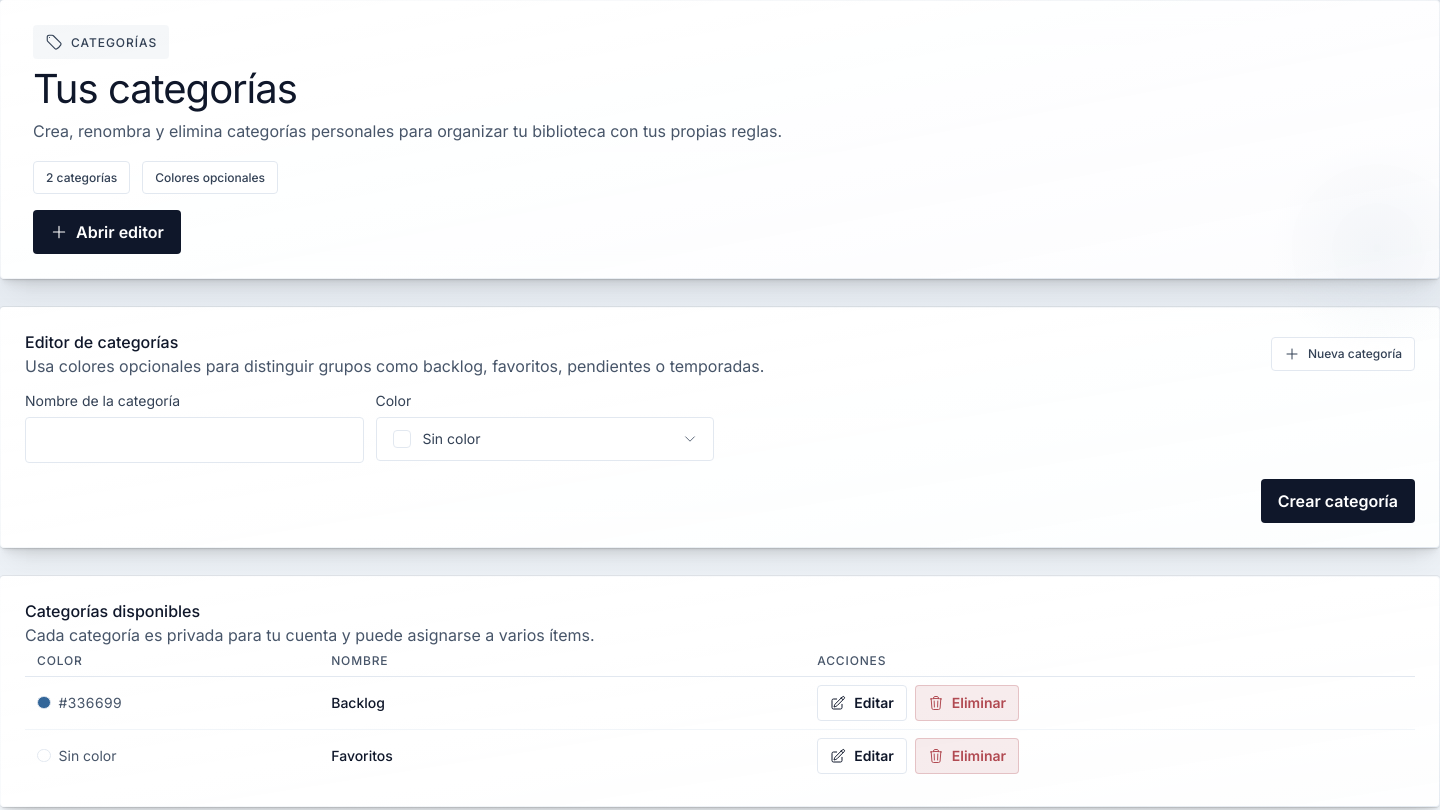
CategoriesView › confirms and deletes a category through the dialog
Click the button "Eliminar" in the row of "#336699": click(967, 703) [915, 685, 1019, 721]
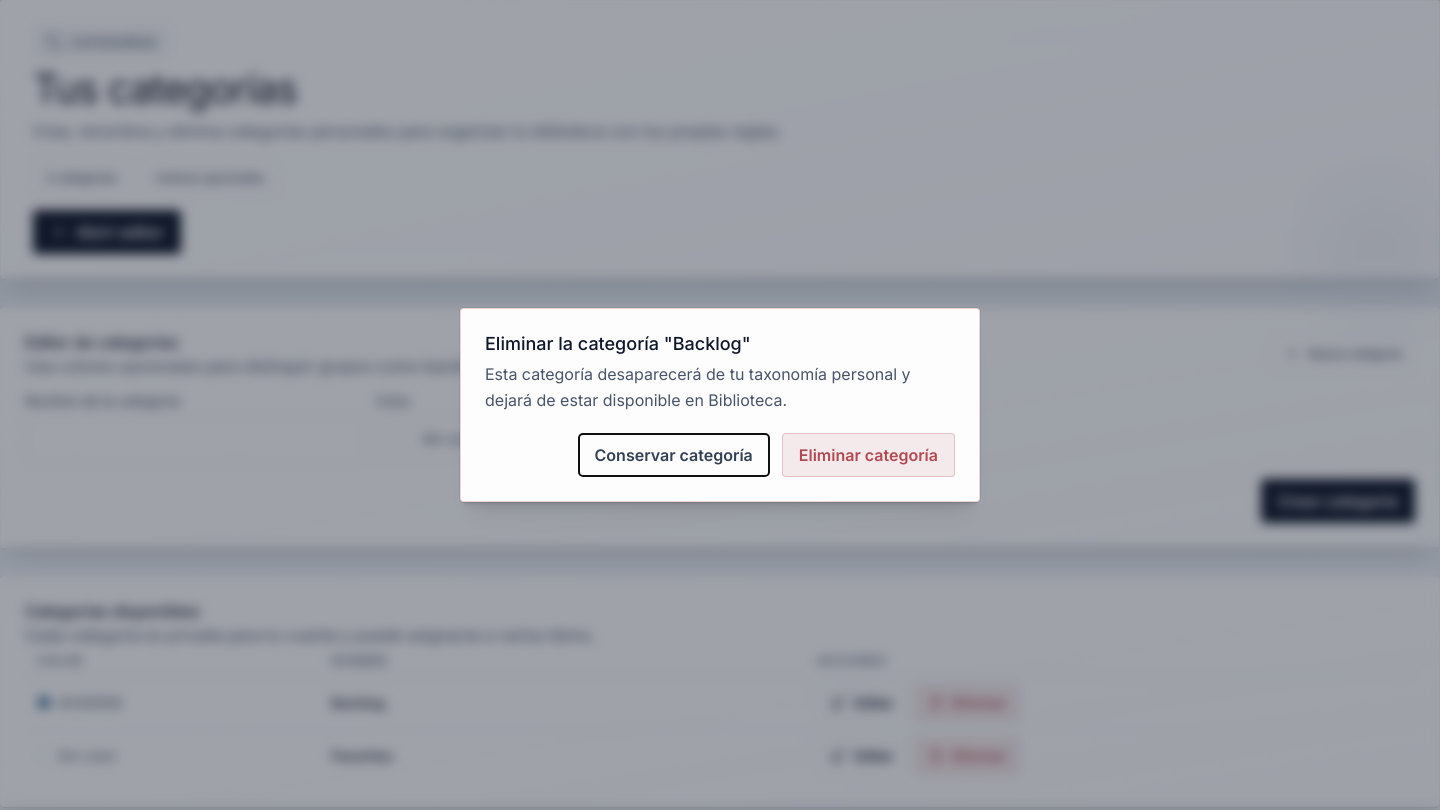
Check: the dialog "Eliminar la categoría \"Backlog\"" is shown, box [460, 308, 980, 502]
Click the button "Eliminar categoría": click(868, 455) [782, 433, 955, 477]
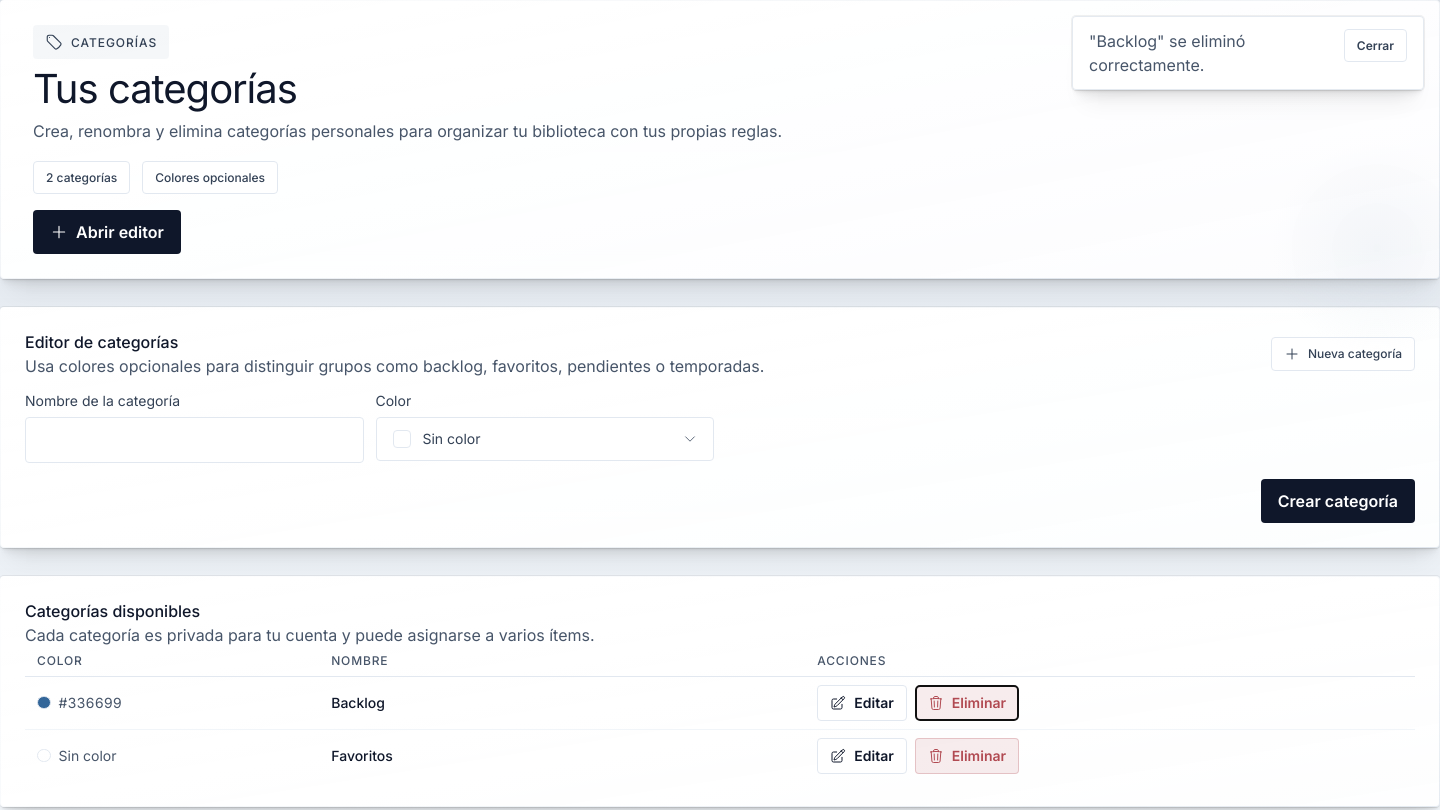
Check: the text "\"Backlog\" se eliminó correctamente." is shown, box [1089, 31, 1245, 75]
